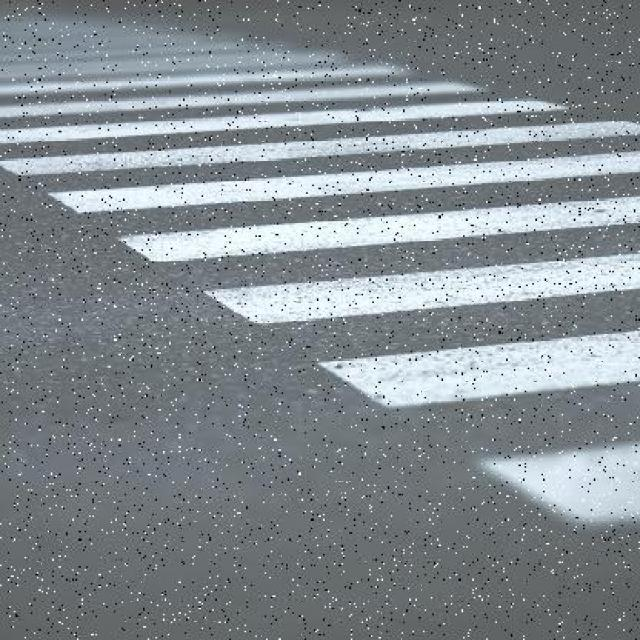crosswalk: (1, 12, 640, 527)
